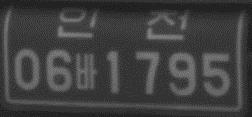0: (13, 48, 40, 91)
1: (104, 49, 124, 94)
5: (200, 51, 232, 97)
6: (44, 48, 73, 92)
7: (133, 49, 160, 96)
9: (168, 51, 197, 97)
바: (73, 51, 99, 91)
인천_D: (56, 6, 190, 43)
